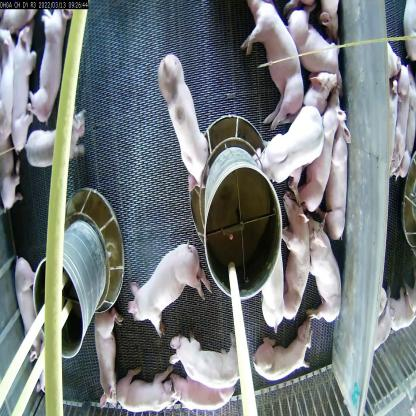Pig: (244, 0, 307, 134), (156, 54, 206, 187), (271, 183, 314, 321), (124, 241, 198, 321), (298, 216, 349, 328), (261, 96, 322, 178), (31, 7, 72, 125), (86, 301, 126, 416), (320, 117, 354, 246), (298, 106, 336, 207), (174, 330, 247, 382), (255, 332, 317, 393), (250, 244, 288, 330), (116, 358, 168, 414), (7, 27, 32, 136), (18, 250, 44, 341), (21, 111, 90, 145), (172, 379, 234, 416)
